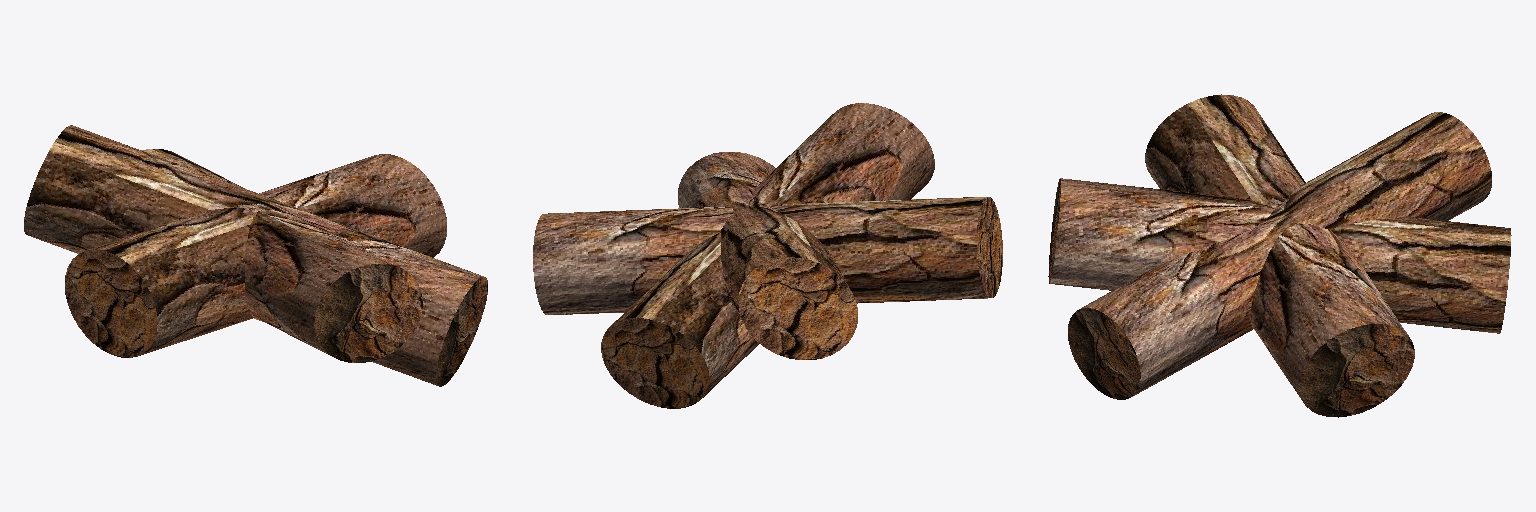
3 views of the same model, side by side, from view 1: azimuth 30°, elevation 25°; view 2: azimuth 150°, elevation 25°; view 3: azimuth 270°, elevation 25° (orthographic).
Visible parts, largest first — view 1: Cylinder.003; view 2: Cylinder.003; view 3: Cylinder.003.
Part boxes in pixels (x1,y1,x2,y2): Cylinder.003: (24, 125, 487, 386); Cylinder.003: (533, 103, 1002, 408); Cylinder.003: (1048, 94, 1511, 417).
Size of the model in its own units: 2.46 by 1.03 by 2.44.
3 materials, 1 textured.